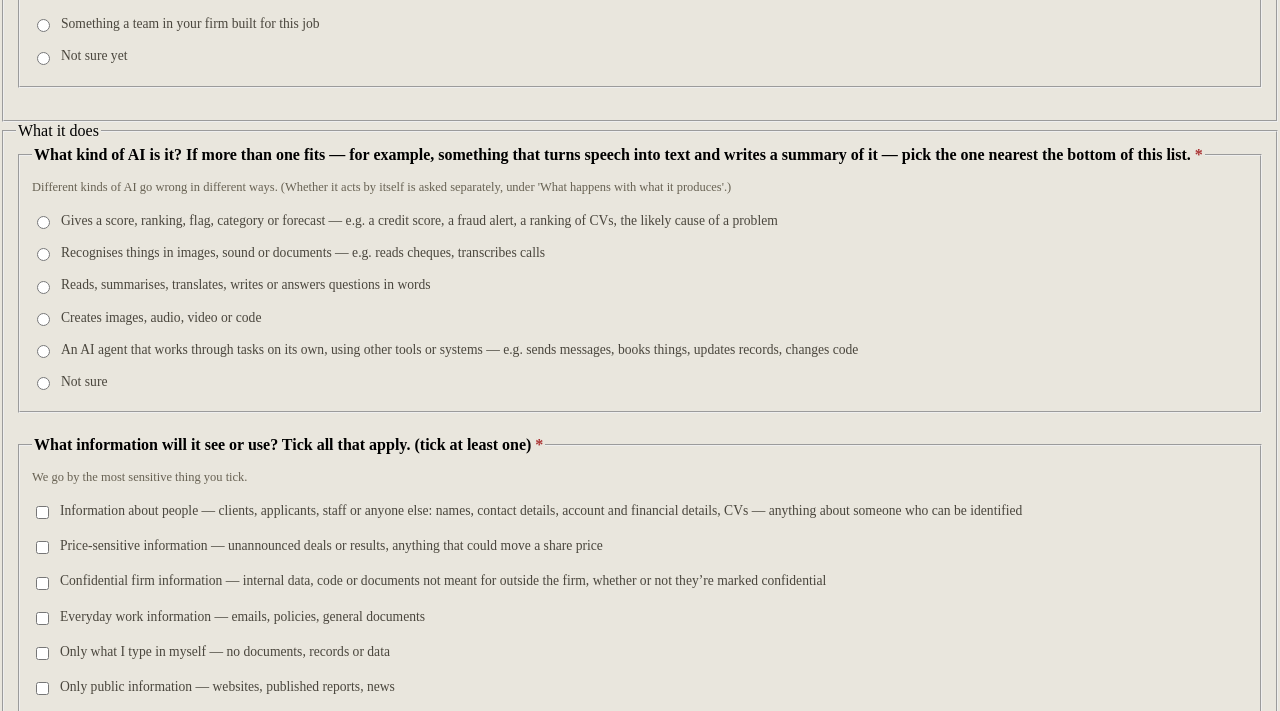
Test: StructuredForm — conditional follow-ups (§2.2 Details) › TC-R16-B-10: Q13/Q14 appear for the agentic option and for Q4 "Not sure", and nowhere else
(page scrolled)
Check: the text "what can it get into by itself" is not shown
Click the radio button labelled "An AI agent that works through tasks on its own" at (44, 352), box [37,345,50,358]
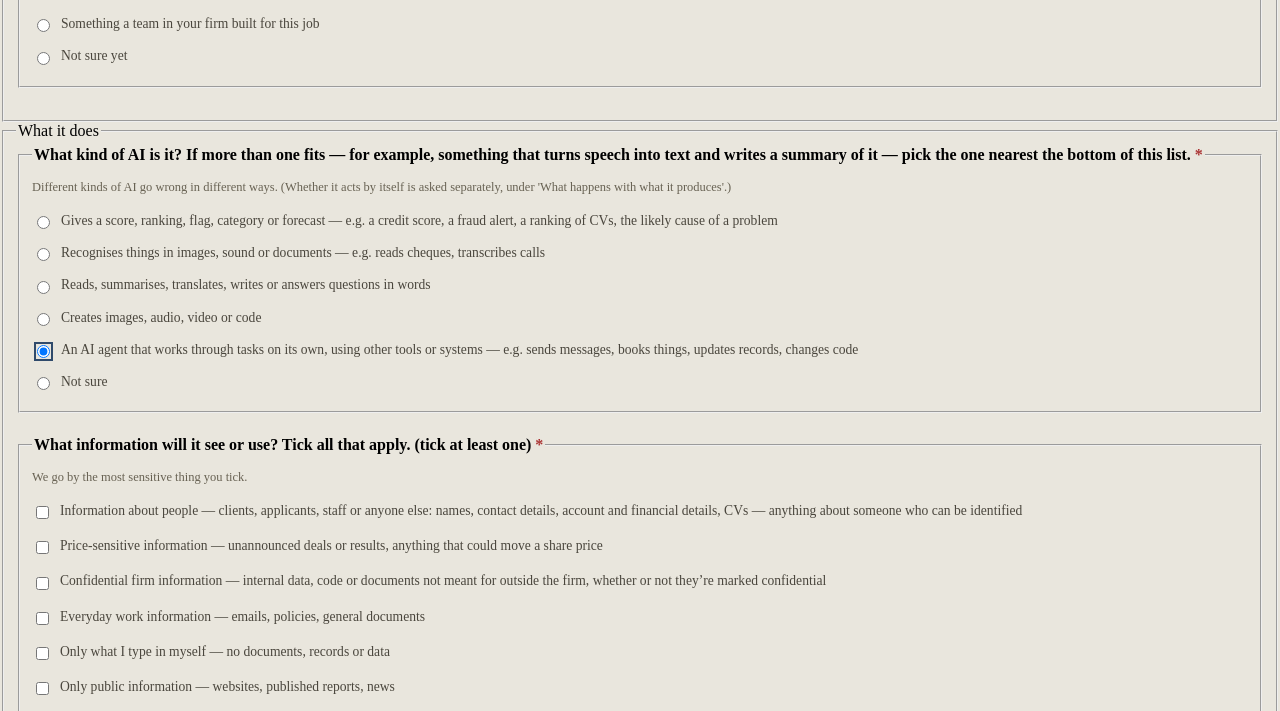
Click the radio button labelled "Reads, summarises, translates, writes or answers questions in words" at (44, 287), box [37,281,50,294]
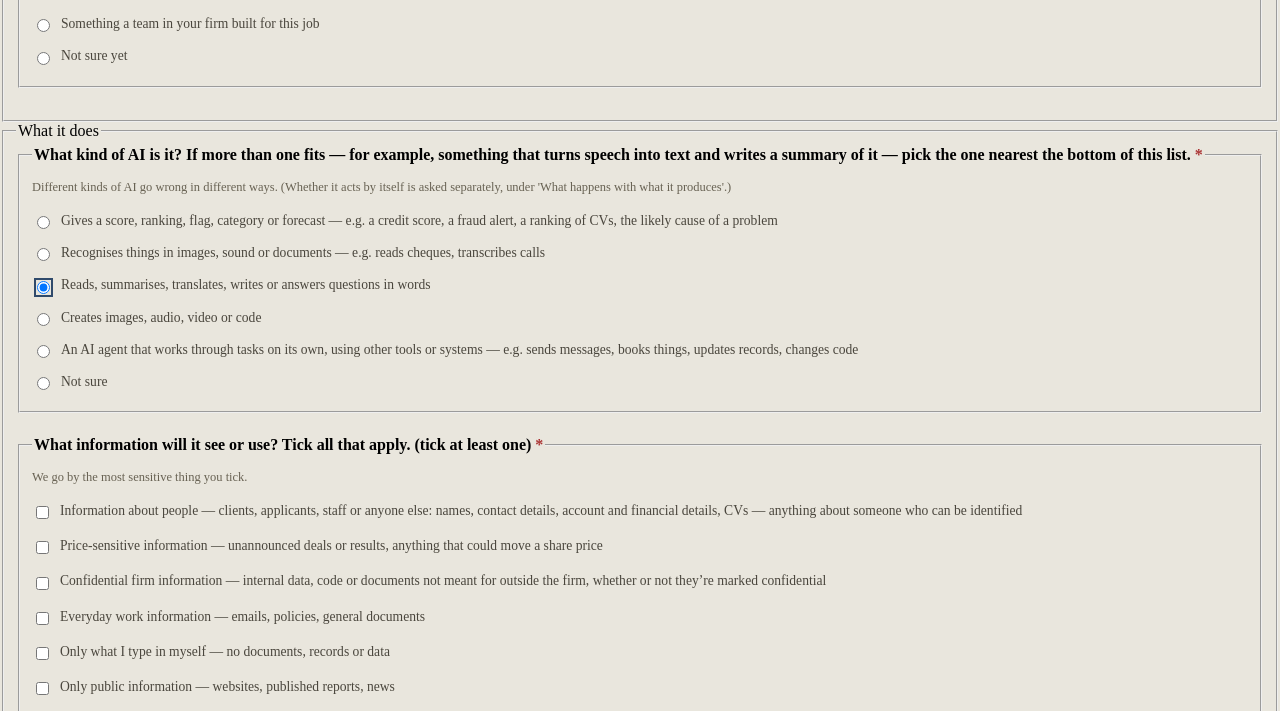
Check: the text "what can it get into by itself" is not shown
Click the radio button labelled "Not sure" at (44, 384), box [37,377,50,390]
(page scrolled)
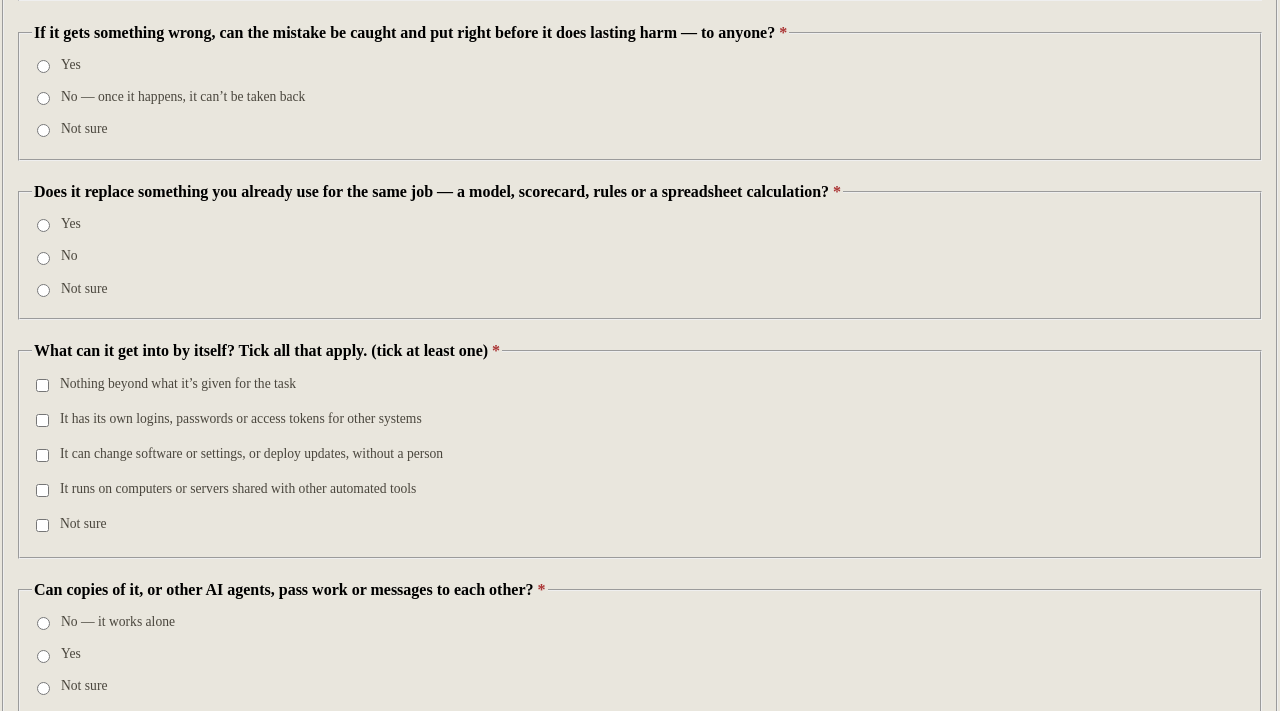
Check: the text "What can it get into by itself" is shown, box [34,342,367,359]
